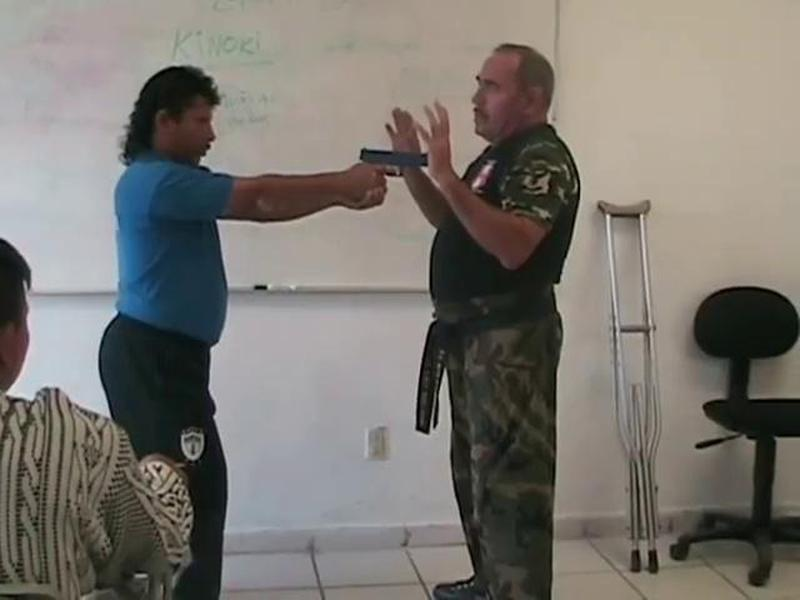Pistola: (350, 140, 433, 216)
